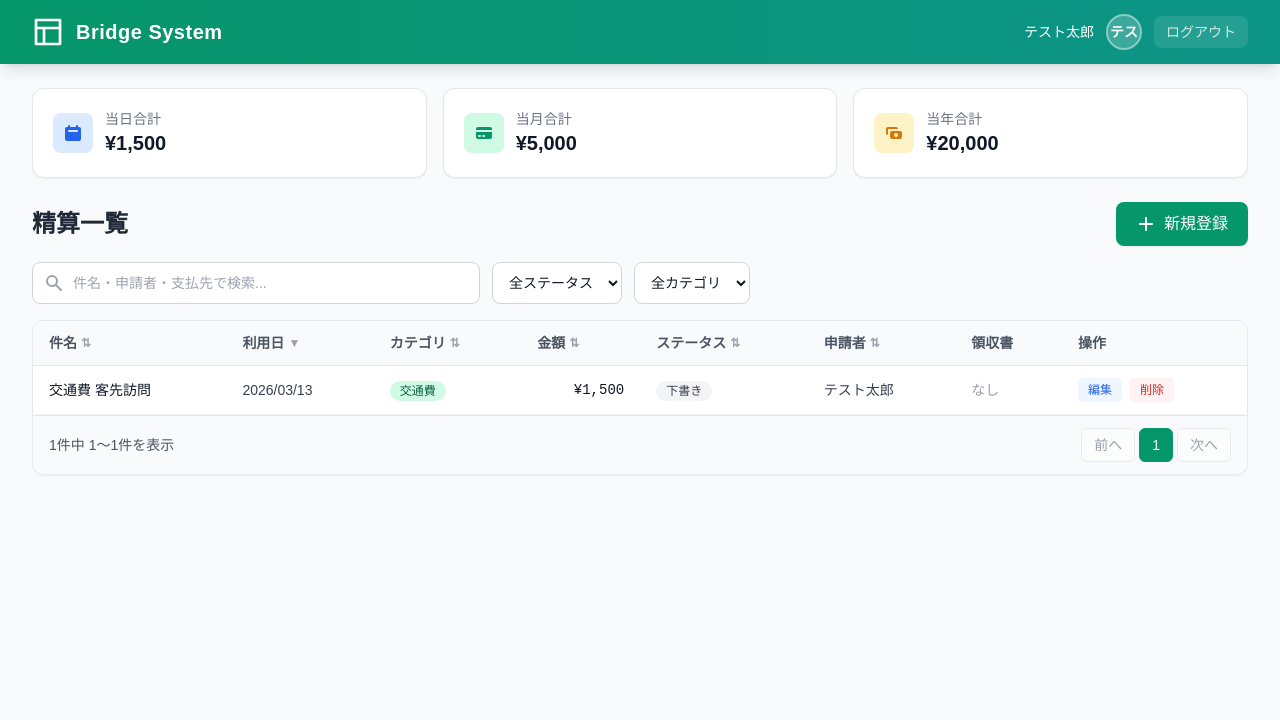
ExpenseList › 削除確認ダイアログ › キャンセルでダイアログが閉じる
The image size is (1280, 720).
Click the button "削除" at (1152, 390), box x1=1130 y1=378 x2=1174 y2=402
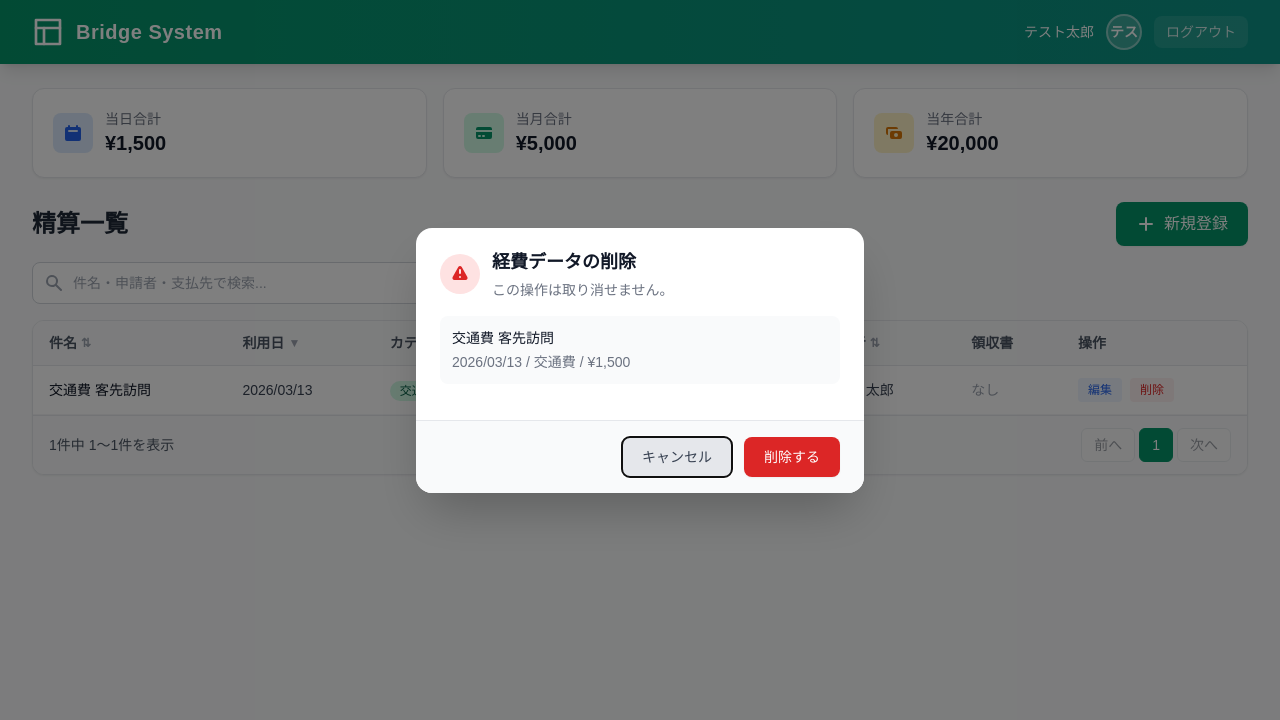
Now the heading "経費データの削除" is shown, box x1=492 y1=252 x2=636 y2=272
Click the button "キャンセル" at (677, 456), box x1=622 y1=436 x2=732 y2=476
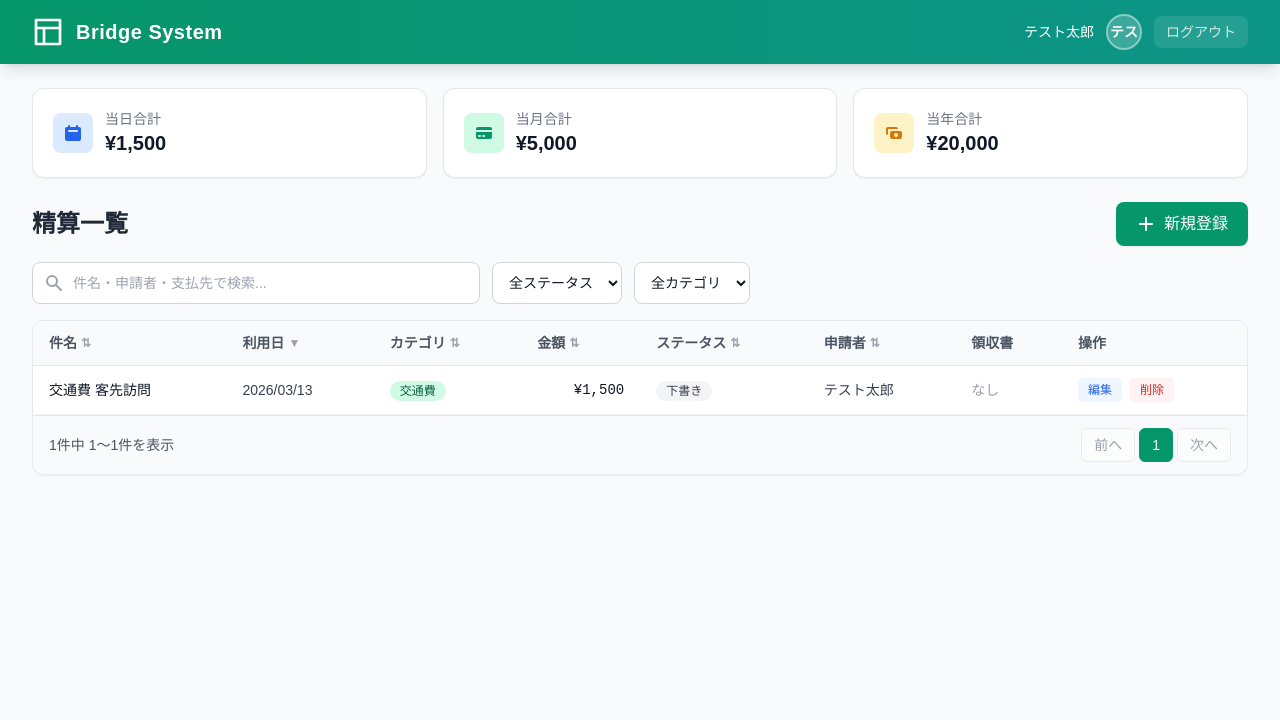
Now the heading "経費データの削除" is gone
